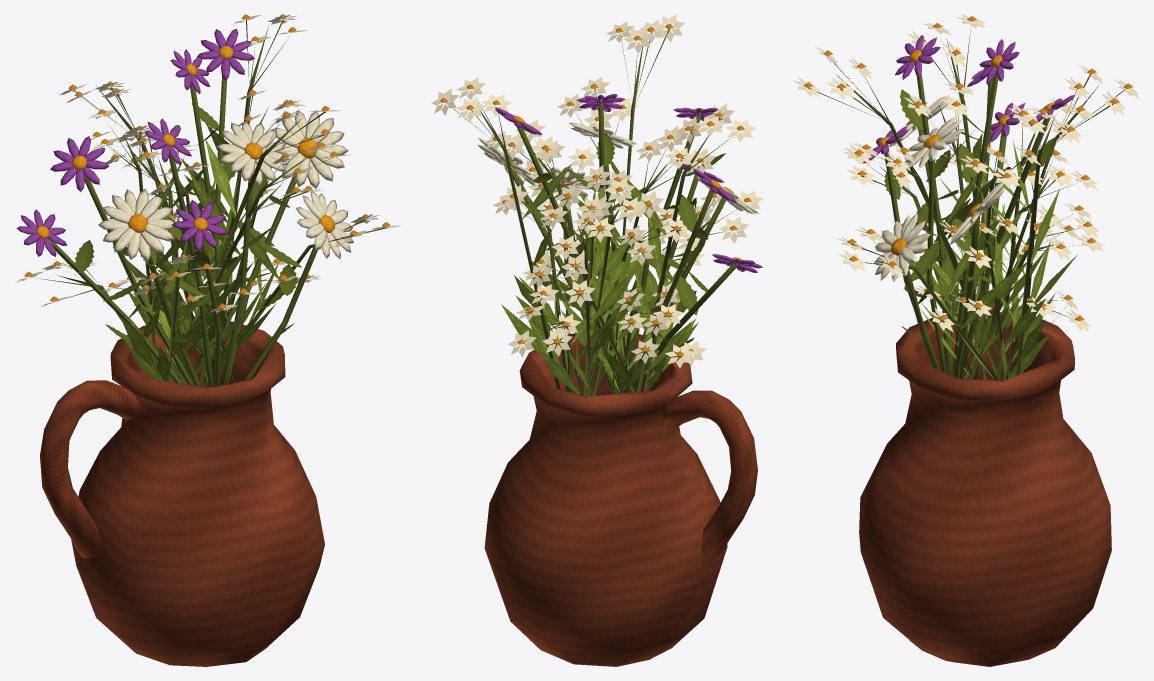
The model's file is terracotta-jug.glb.
3 views of the same model, side by side, from view 1: azimuth 30°, elevation 25°; view 2: azimuth 150°, elevation 25°; view 3: azimuth 270°, elevation 25° (orthographic). The views are drawn at different scales.
Visible parts, largest first — view 1: terracotta-jug-vessel, terracotta-jug-bouquet; view 2: terracotta-jug-vessel, terracotta-jug-bouquet; view 3: terracotta-jug-vessel, terracotta-jug-bouquet.
Part boxes in pixels (x1,y1,x2,y2): terracotta-jug-vessel: (40, 321, 324, 666); terracotta-jug-bouquet: (16, 14, 401, 386); terracotta-jug-vessel: (484, 333, 757, 666); terracotta-jug-bouquet: (431, 14, 763, 396); terracotta-jug-vessel: (859, 290, 1111, 666); terracotta-jug-bouquet: (793, 14, 1139, 380).
Size of the model in its own units: 0.3124 by 0.5638 by 0.2985.
11 materials, 11 textured.
